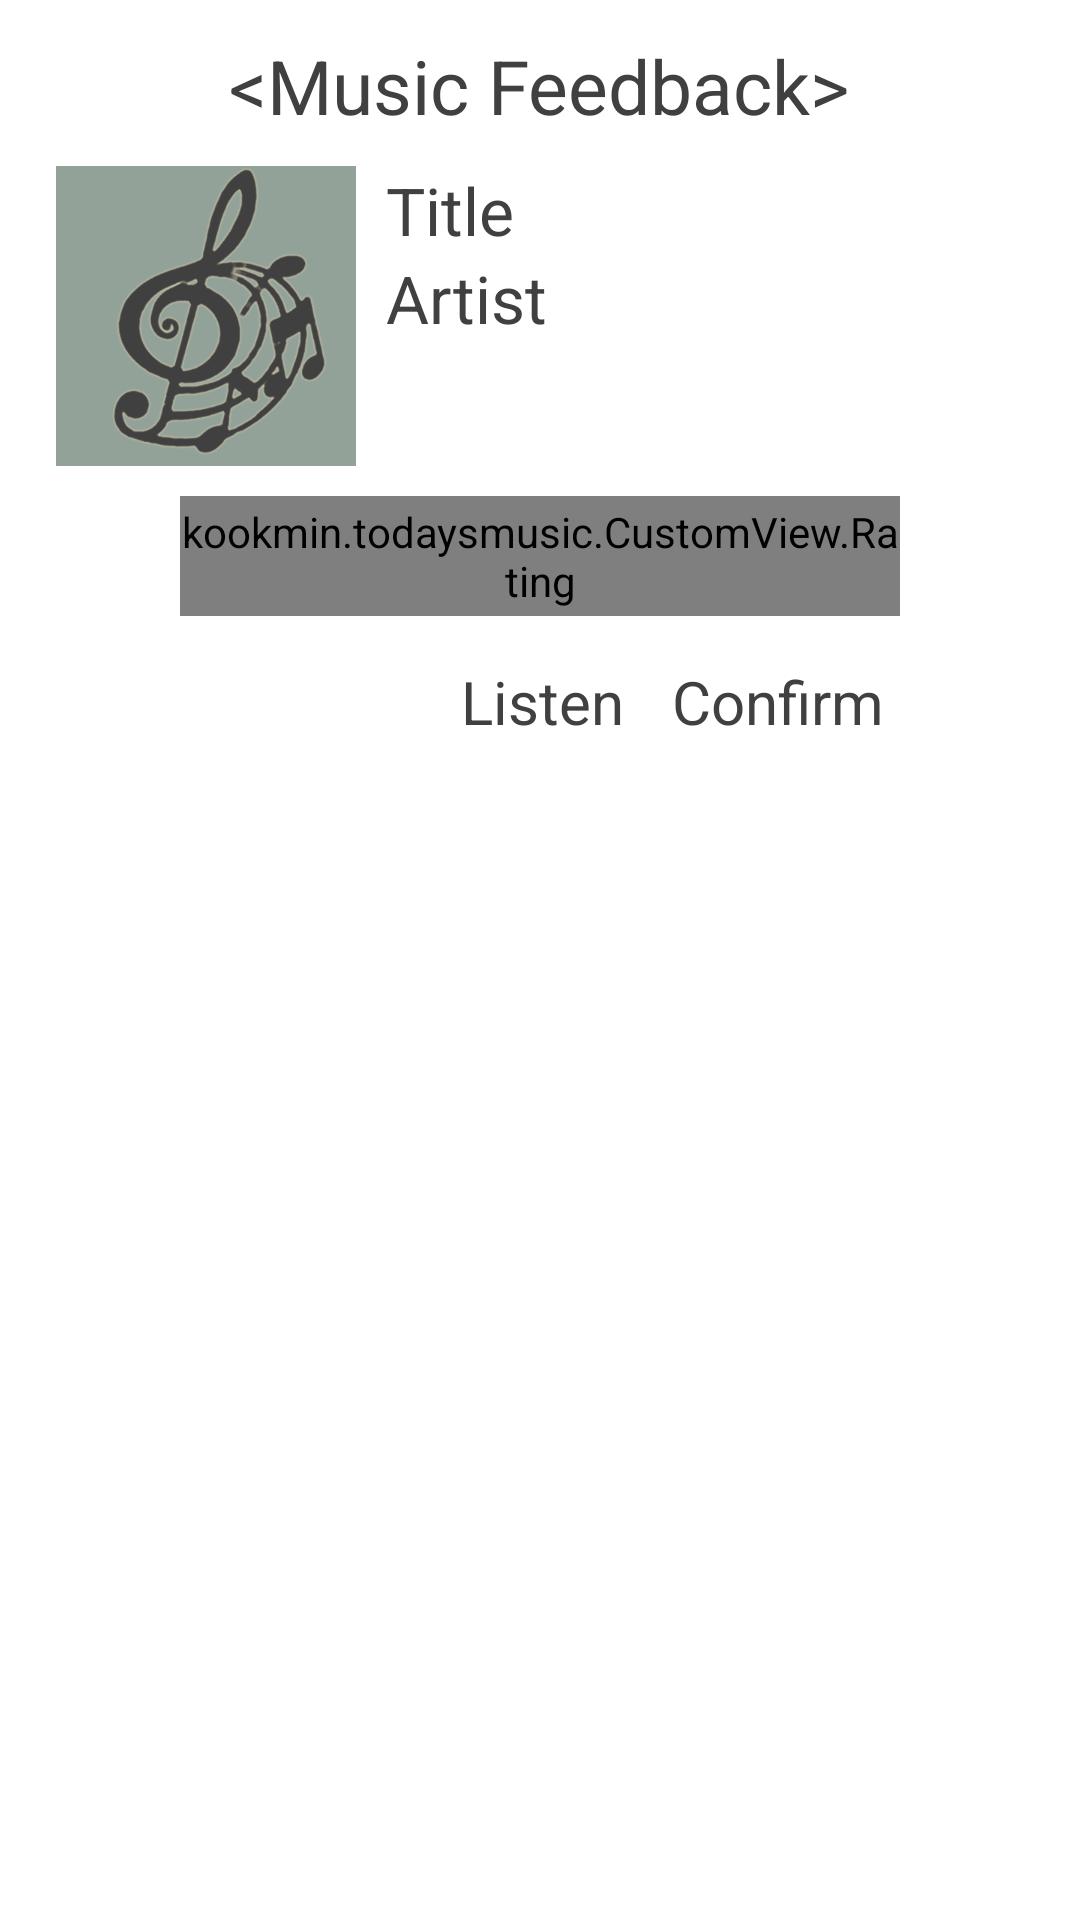

Point at icon controls on the screen. Image size 1080px x 1920px, points as point (x, y).
music blank: point (206, 316)
